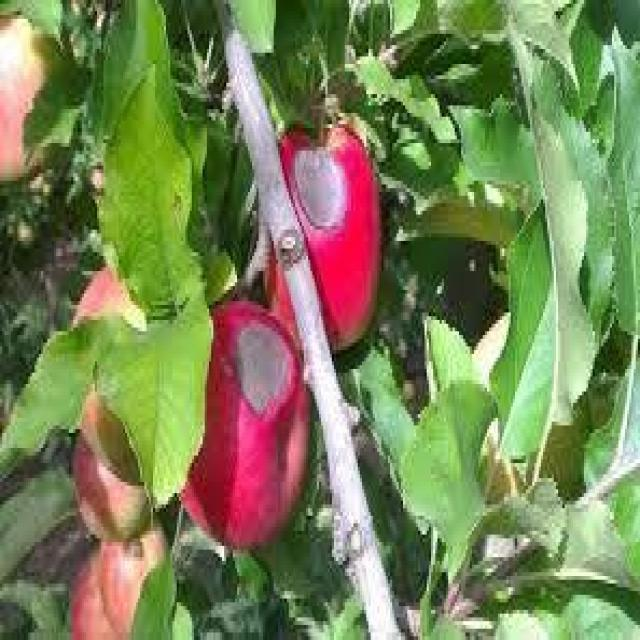maca: (177, 294, 310, 550), (263, 117, 381, 354)
